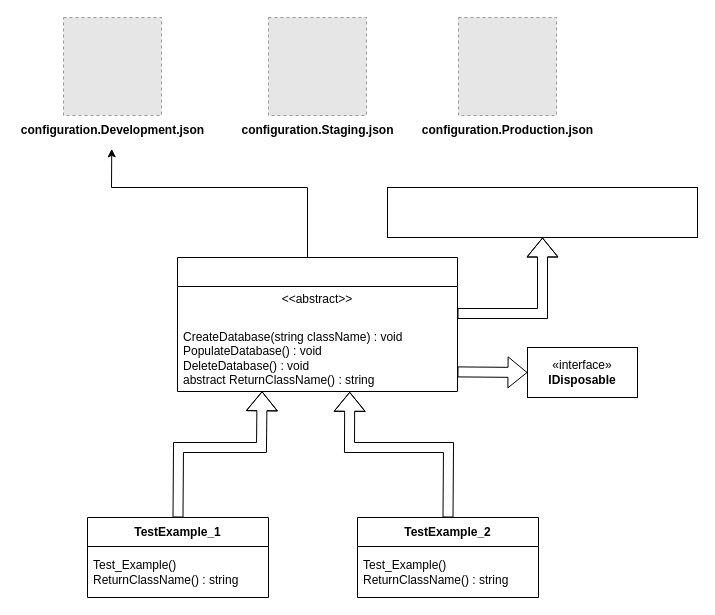
This 715x615 diagram has some shape labels left out. Grey dashed boxes stand in for pictures. The shapes that lost their labels are listed below. From the top down, each one's box as (x1, y1, x2, y2) in pixels, then its label:
(386, 186, 698, 238): «interface» IClassFixture<WebApplicationFactory<Program>>
(176, 256, 458, 392): AbstractionIntegrationTest
